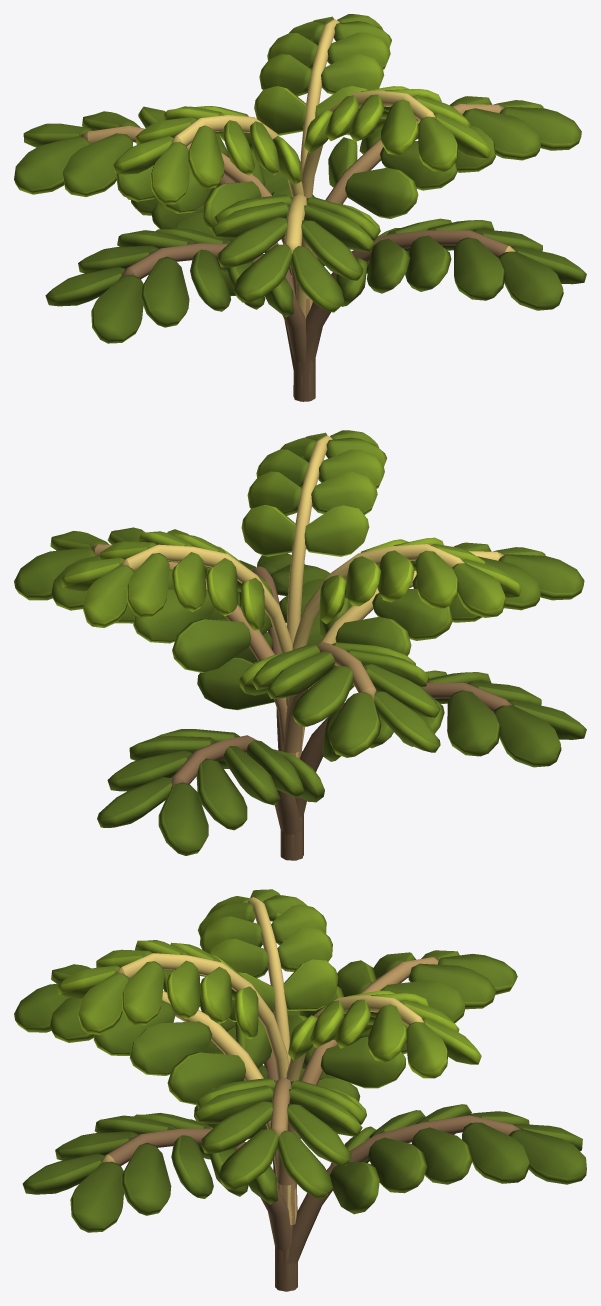
File: fern_tree_small_LOD_group.fbx
3 renders of one model, top to bottom at view 1: azimuth 30°, elevation 25°; view 2: azimuth 150°, elevation 25°; view 3: azimuth 270°, elevation 25°, orthographic. The views are drawn at different scales.
Visible parts, largest first — view 1: fern_tree_small_LOD0; view 2: fern_tree_small_LOD0; view 3: fern_tree_small_LOD0.
Boxes of the visible parts, x1,y1,x2,y2 form: fern_tree_small_LOD0: [14, 14, 586, 401]; fern_tree_small_LOD0: [14, 430, 586, 860]; fern_tree_small_LOD0: [14, 889, 586, 1291].
Size of what is drawn, in the model's own units: 339 by 219 by 322.
Materials: 1 (1 with a texture image).
